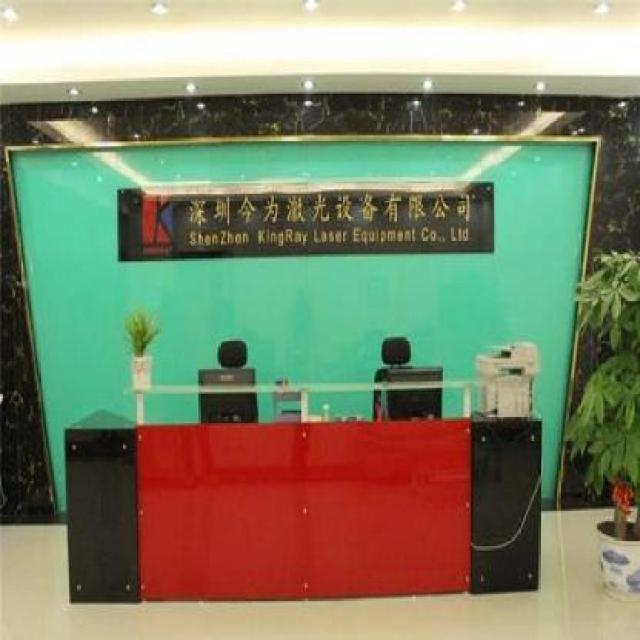frontdesk: (43, 370, 555, 608)
